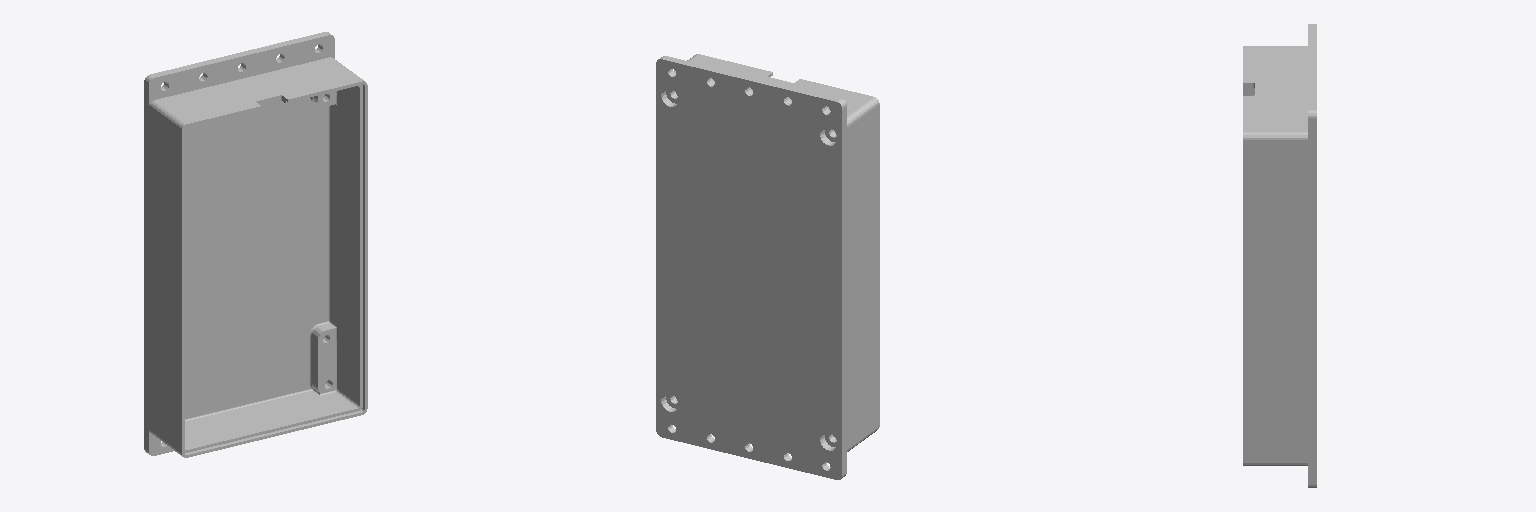
File: actuatorInput.obj
3 views of the same model, side by side, from view 1: azimuth 30°, elevation 25°; view 2: azimuth 150°, elevation 25°; view 3: azimuth 270°, elevation 25° (orthographic).
Visible parts, largest first — view 1: Body1; view 2: Body1; view 3: Body1.
Part boxes in pixels (bbox=[...]): Body1: bbox=[144, 32, 367, 457]; Body1: bbox=[656, 54, 879, 479]; Body1: bbox=[1243, 24, 1316, 487].
Bounding box in the file's own units: 7 × 13.6 × 2.44.